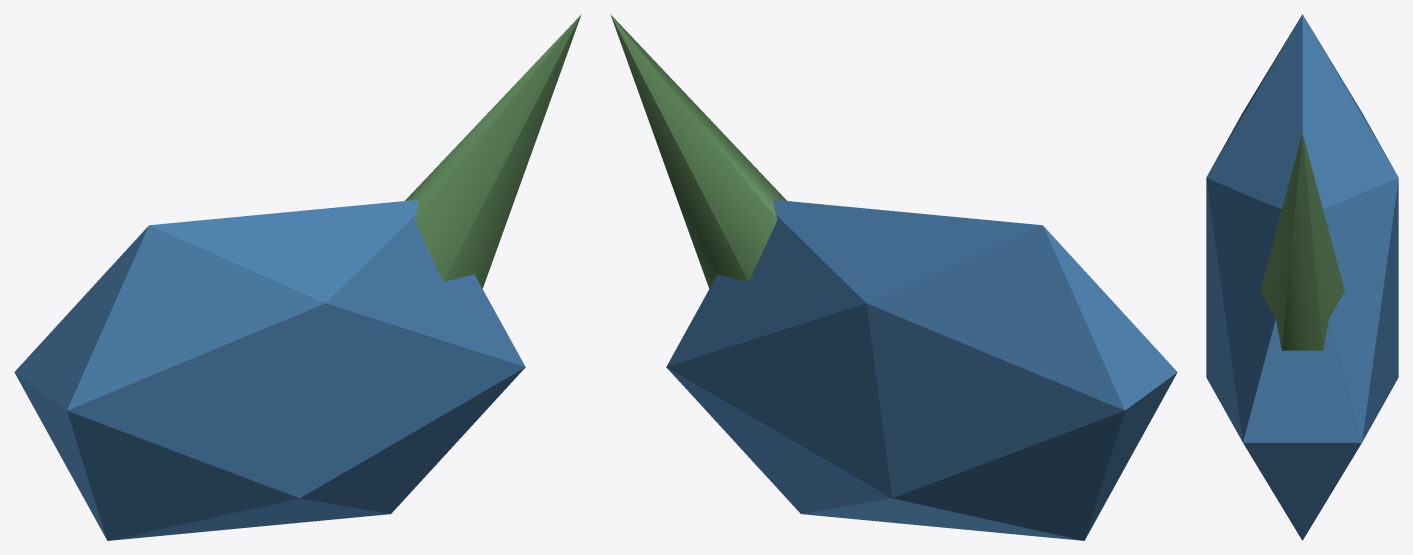
The model's file is wpn_r_06.glb.
3 renders of one model, left to right at view 1: azimuth 30°, elevation 25°; view 2: azimuth 150°, elevation 25°; view 3: azimuth 270°, elevation 25°, orthographic. The views are drawn at different scales.
Visible parts, largest first — view 1: thrown_core, thrown_edge; view 2: thrown_core, thrown_edge; view 3: thrown_core, thrown_edge.
Boxes of the visible parts, x1,y1,x2,y2 form: thrown_core: (14, 199, 525, 540); thrown_edge: (405, 14, 581, 288); thrown_core: (666, 199, 1177, 540); thrown_edge: (610, 14, 786, 288); thrown_core: (1206, 14, 1398, 540); thrown_edge: (1260, 133, 1344, 350).
Size of the model in its own units: 0.4806 by 0.385 by 0.131.
